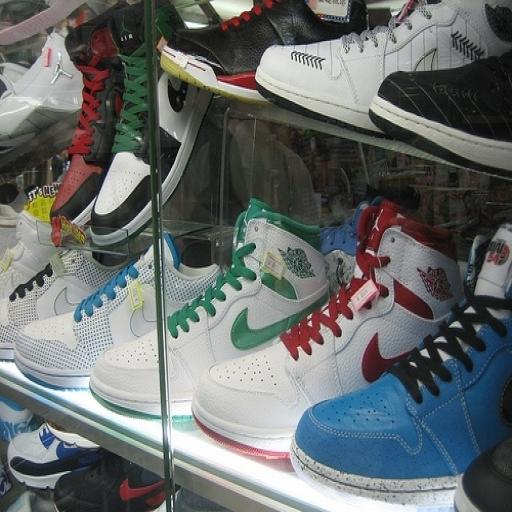shoe: (191, 200, 462, 458), (291, 224, 512, 505), (90, 198, 328, 416), (255, 0, 512, 134), (14, 233, 220, 388), (90, 2, 212, 246), (369, 12, 512, 174), (160, 0, 368, 101), (50, 8, 125, 246), (0, 250, 119, 360), (0, 30, 82, 154), (53, 450, 165, 512), (8, 423, 102, 489)
